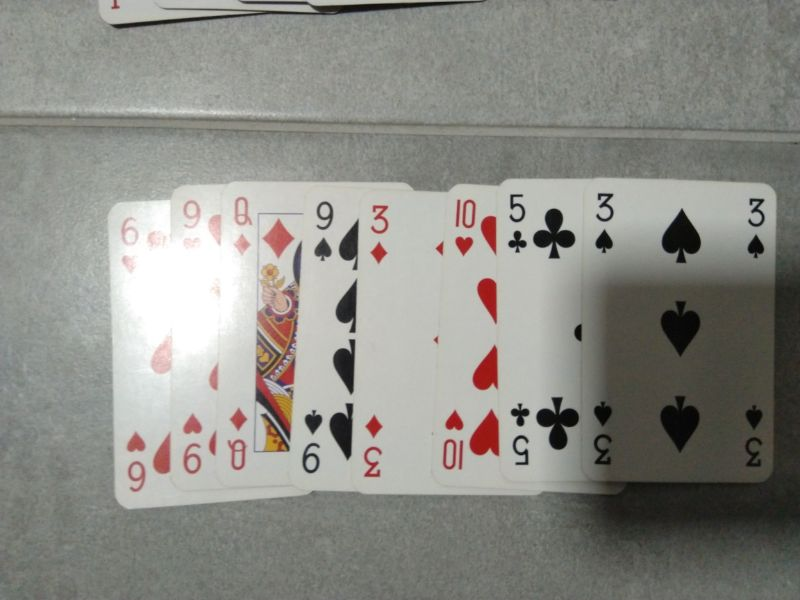3d: (356, 409, 393, 486), (364, 197, 397, 271)
3s: (587, 395, 626, 476), (734, 395, 772, 476), (738, 190, 776, 266), (588, 186, 624, 263)
5c: (504, 397, 540, 470), (500, 188, 534, 259)
6h: (116, 424, 161, 500), (111, 208, 155, 281)
9h: (174, 407, 212, 481), (176, 192, 212, 263)
9s: (292, 403, 330, 482), (303, 195, 343, 268)
Qd: (225, 191, 261, 259), (222, 405, 255, 477)
Th: (436, 403, 475, 479), (446, 190, 483, 263)
